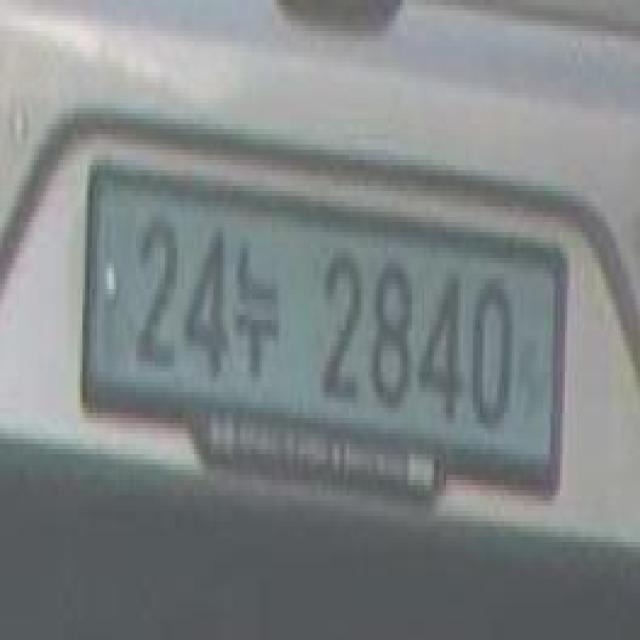EV_plate: (78, 136, 570, 528)
